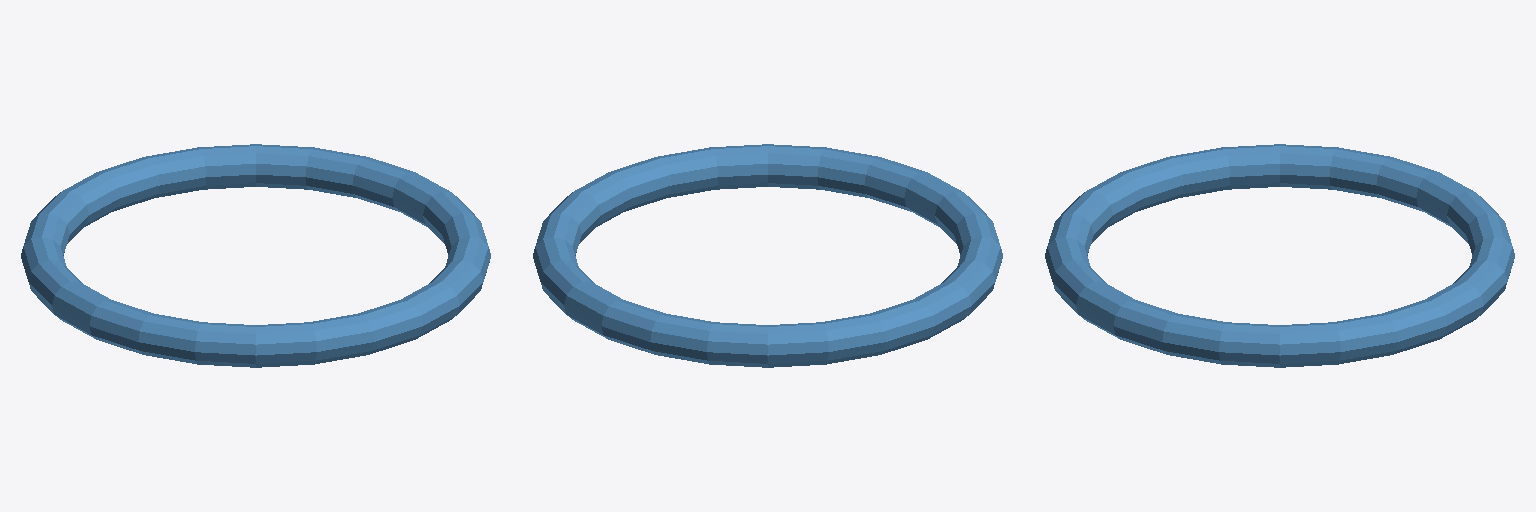
3 views of the same model, side by side, from view 1: azimuth 30°, elevation 25°; view 2: azimuth 150°, elevation 25°; view 3: azimuth 270°, elevation 25° (orthographic).
Parts seen in each view (by area): view 1: トーラス.003; view 2: トーラス.003; view 3: トーラス.003.
Part boxes in pixels (left/top/right/bottom): トーラス.003: left=21, top=144, right=490, bottom=367; トーラス.003: left=533, top=144, right=1002, bottom=367; トーラス.003: left=1045, top=144, right=1514, bottom=367.
Size of the model in its own units: 1.16 by 0.1057 by 1.16.
Materials: 1 (1 with a texture image).